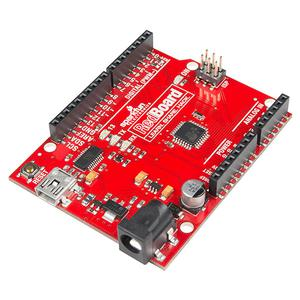duino: (5, 23, 297, 278)
